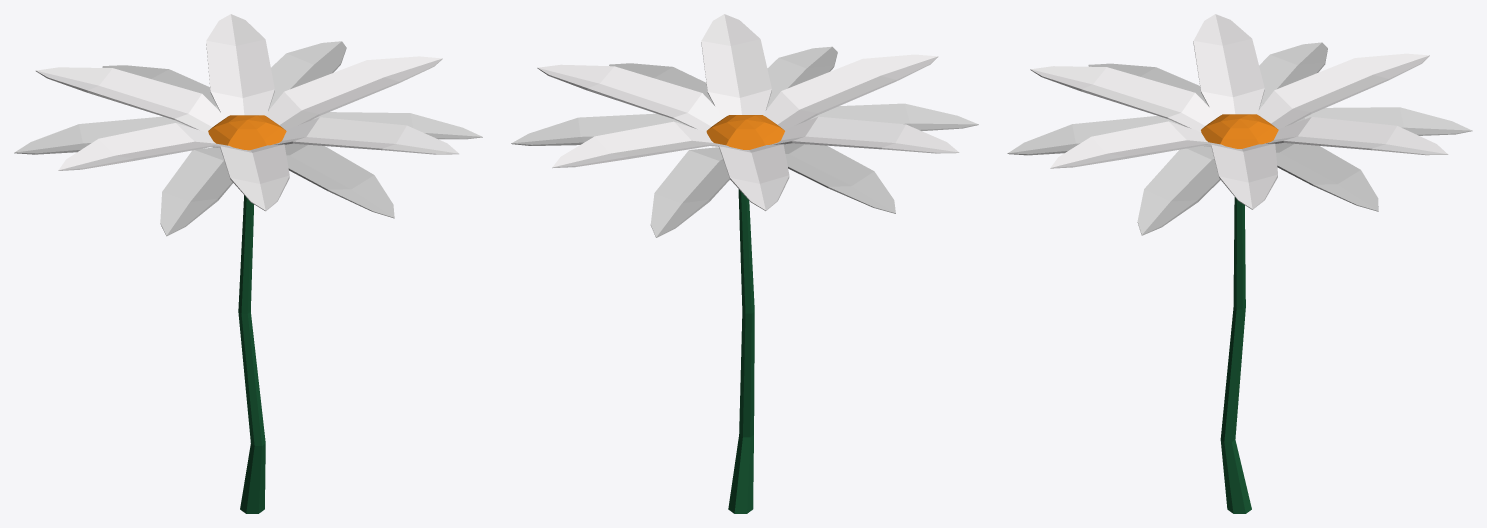
The model's file is FixedDaisy.fbx.
The picture shows the model from 3 angles, left to right: view 1: azimuth 30°, elevation 25°; view 2: azimuth 150°, elevation 25°; view 3: azimuth 270°, elevation 25°; orthographic projection.
Parts seen in each view (by area): view 1: Daisy; view 2: Daisy; view 3: Daisy.
Part boxes in pixels (x1,y1,x2,y2): Daisy: [14, 14, 482, 513]; Daisy: [511, 14, 978, 513]; Daisy: [1007, 14, 1472, 513].
Size of the model in its own units: 122 by 116 by 123.
